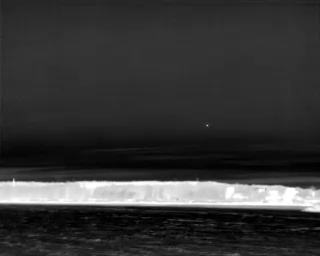HELICOPTER: (204, 121, 211, 129)
